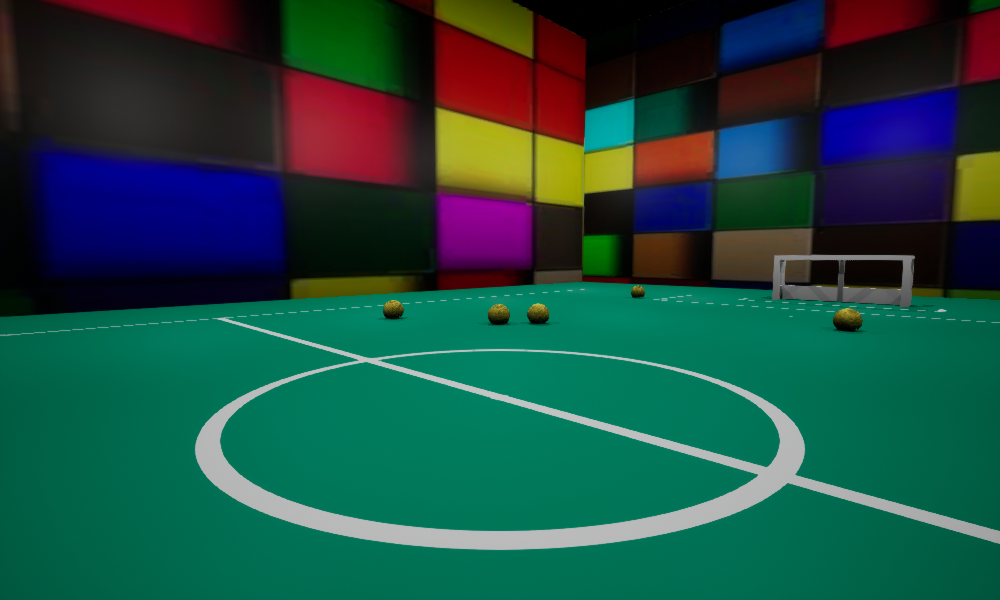b: (833, 308, 862, 330), (527, 303, 548, 323), (488, 304, 509, 323), (383, 300, 403, 318), (631, 285, 644, 297)
g: (772, 255, 914, 306)
